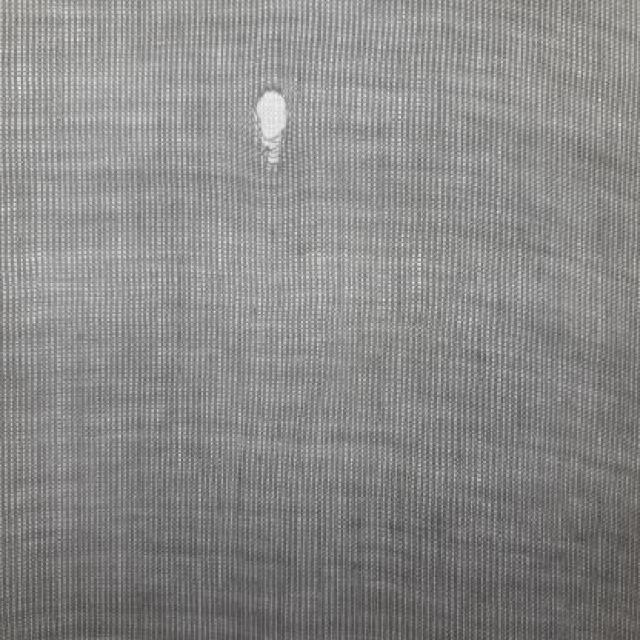other: (244, 72, 302, 179)
